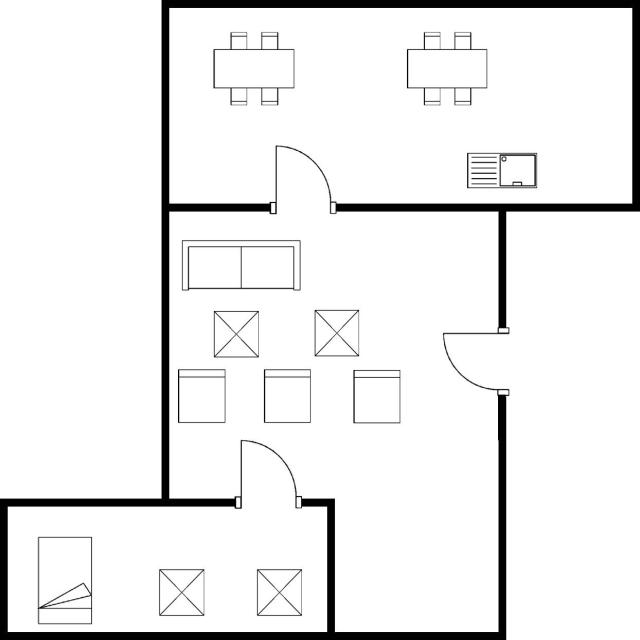bed: (35, 532, 96, 627)
coffee_table: (154, 564, 208, 619), (253, 564, 305, 619), (309, 308, 363, 360), (210, 306, 261, 360)
dining_table: (401, 27, 494, 109), (210, 28, 301, 108)
large_sofa: (178, 234, 304, 296)
sink: (463, 149, 542, 190)
small_sofa: (258, 365, 316, 426), (351, 364, 404, 428), (175, 364, 228, 426)
